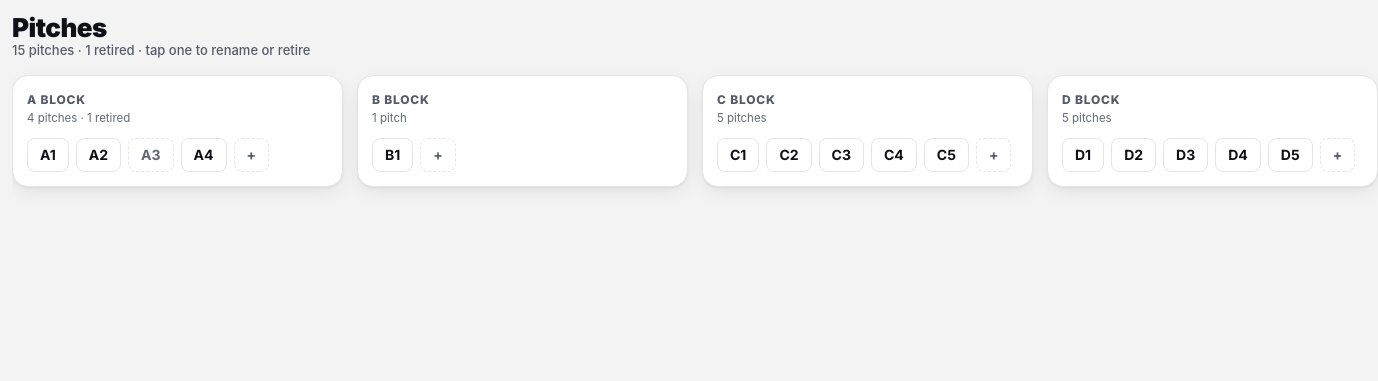
Scenario: the screen › ⚠️ WARNS THAT A RENAME LEAVES THE FIXTURES BEHIND
Click the button "A1" at (48, 155), box [27,138,69,172]
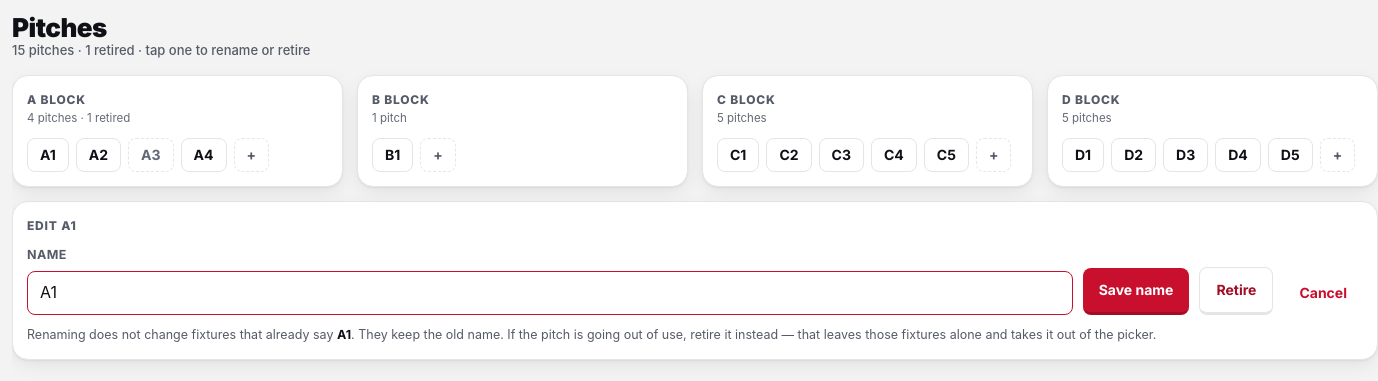
Expected: the text "does not change fixtures that already say" is shown, [27,327,333,342]
Expected: the text "retire it instead" is shown, [351,327,1156,342]
